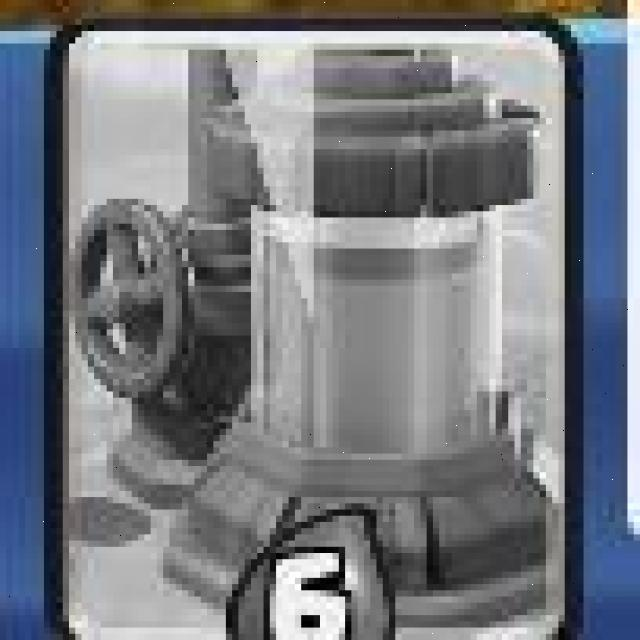Elixir_Pump: (44, 19, 584, 640)
